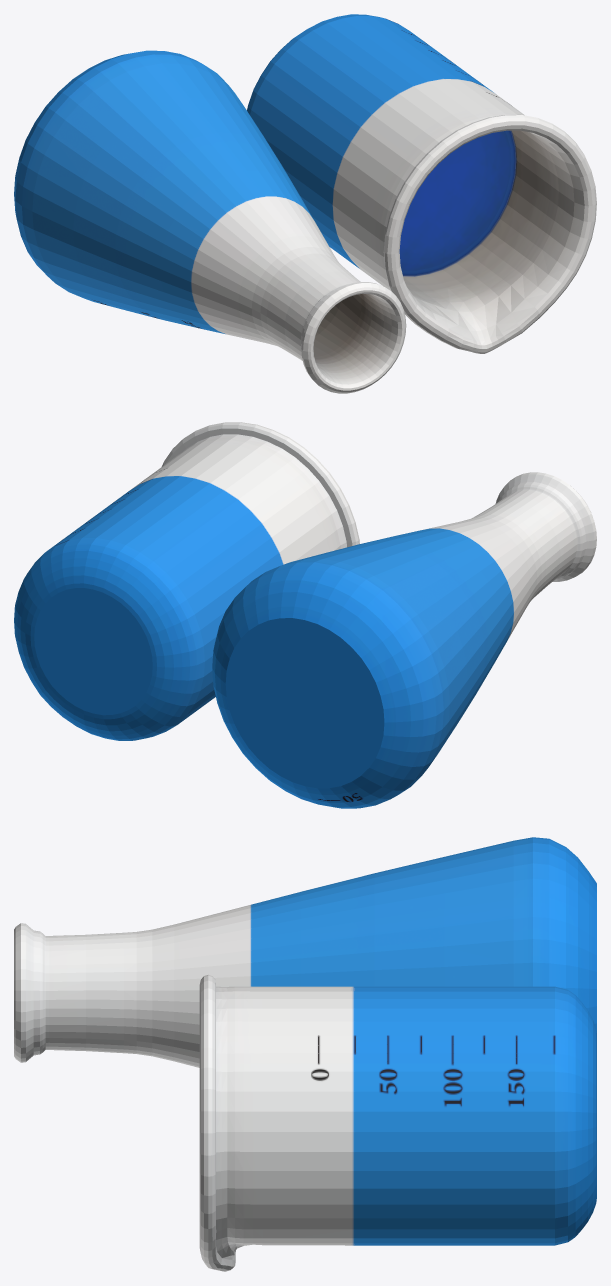
Rendered from vasoquimico.obj.
3 renders of one model, top to bottom at view 1: azimuth 30°, elevation 25°; view 2: azimuth 150°, elevation 25°; view 3: azimuth 270°, elevation 25°, orthographic. The views are drawn at different scales.
Visible parts, largest first — view 1: Object.1; view 2: Object.1; view 3: Object.1.
Boxes of the visible parts, x1,y1,x2,y2 form: Object.1: (14,14,596,393); Object.1: (14,422,596,808); Object.1: (14,837,596,1271).
Size of the model in its own units: 303 by 168 by 300.
1 material, 1 textured.
